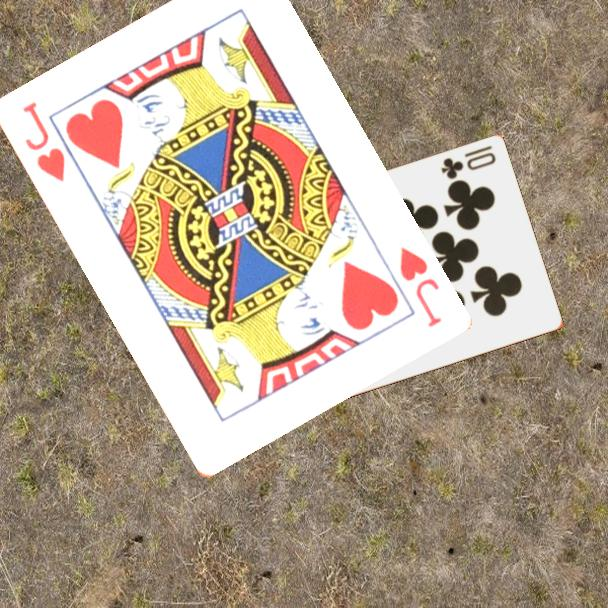c10: (437, 142, 499, 183)
h11: (18, 98, 68, 185), (395, 243, 444, 330)
